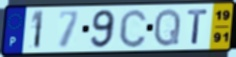1: (31, 9, 45, 51)
7: (58, 9, 80, 50)
9: (90, 9, 118, 50)
C: (118, 7, 149, 49)
Q: (152, 7, 183, 48)
T: (186, 8, 209, 46)
